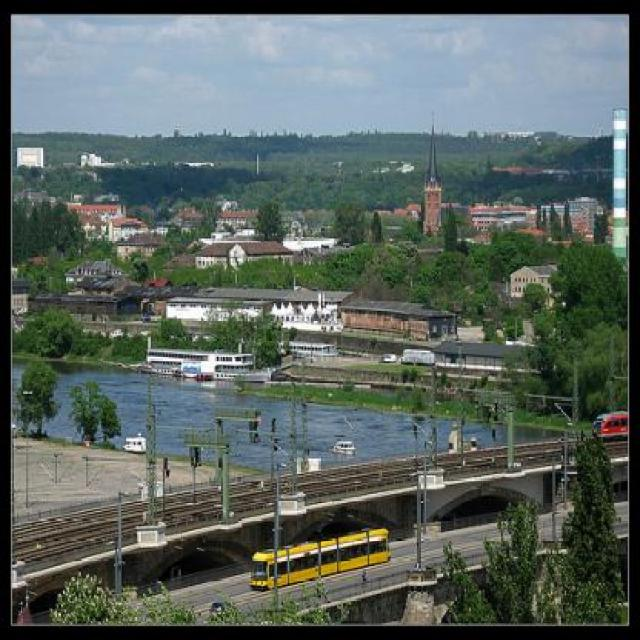ship: (142, 338, 273, 382), (330, 430, 356, 455)
